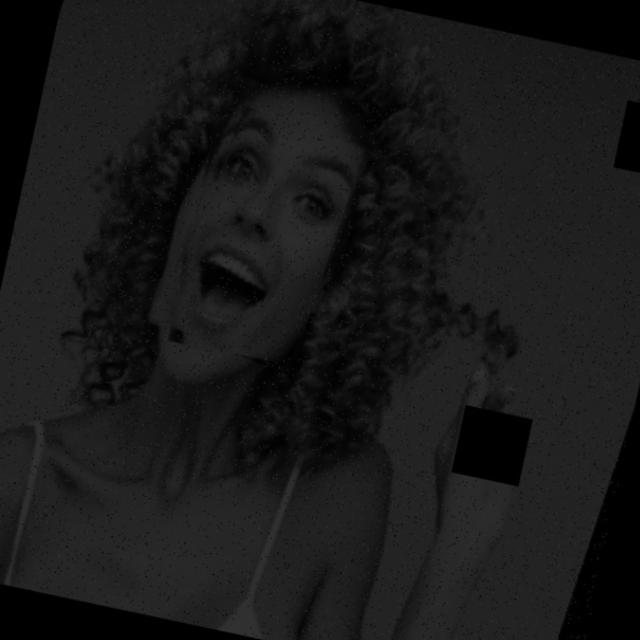Surprised: (117, 22, 429, 415)
